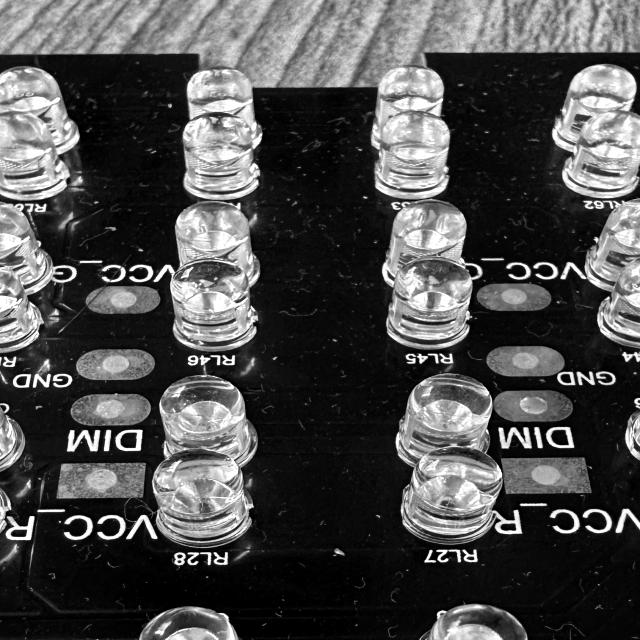led: (148, 448, 255, 549), (403, 444, 502, 546), (391, 376, 496, 470), (158, 377, 262, 468), (382, 256, 478, 351), (168, 258, 264, 353), (172, 199, 266, 296), (377, 202, 470, 286), (558, 109, 640, 200), (180, 111, 262, 199), (181, 72, 270, 148), (0, 67, 80, 150), (0, 110, 72, 202), (376, 110, 451, 198), (558, 65, 636, 148), (373, 66, 446, 144), (0, 198, 55, 296), (412, 602, 528, 640), (137, 605, 256, 640), (0, 260, 44, 353), (598, 253, 640, 350), (594, 200, 640, 288), (0, 379, 28, 473)
